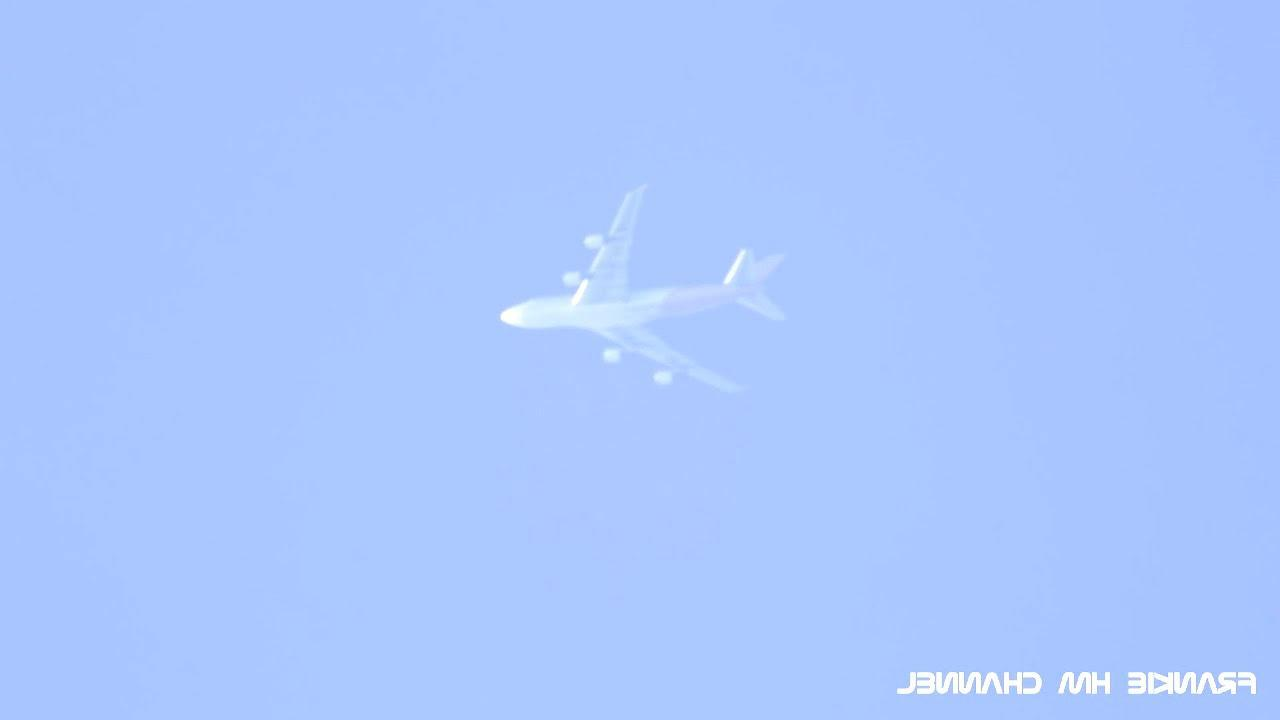Plane: (427, 174, 851, 410)
